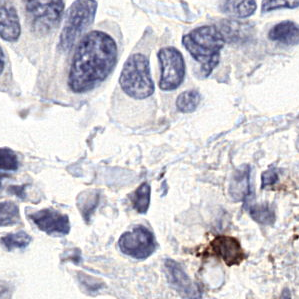Lymphocyte: (204, 233, 249, 267)
